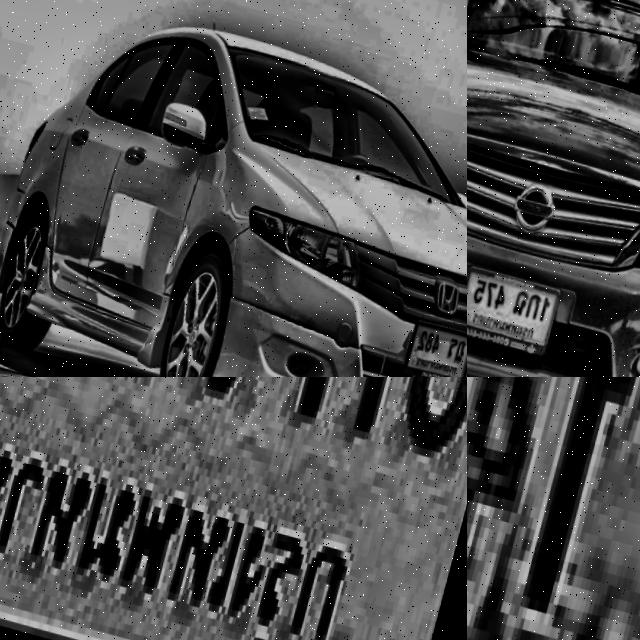license-plate: (0, 377, 467, 640), (467, 377, 640, 640), (467, 250, 576, 355), (404, 298, 467, 377)
